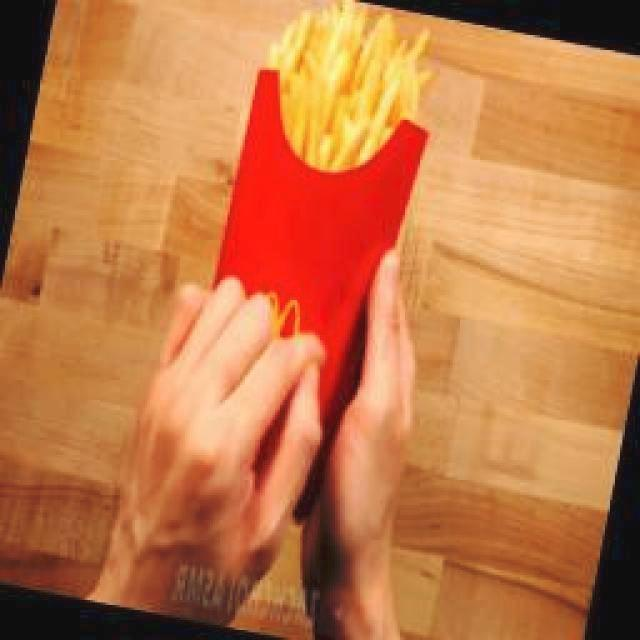french fries: (264, 2, 436, 171)
